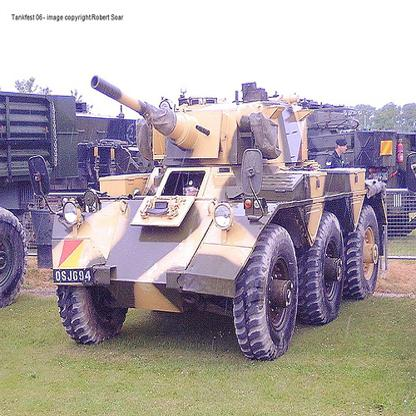Tank: (50, 76, 395, 367)
